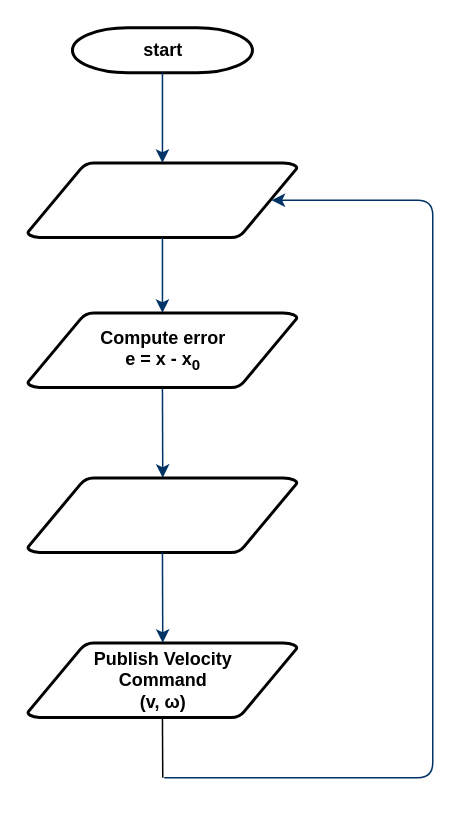
The diagram is 471 pixels wide and 816 high, and some of its shapes have lost their labels. Here are the shapes that lost their labels. From the top down, the centre of each, then its label:
the point at 161,199: Read Line Position (x)
the point at 161,515: Compute Ang. Vel. ω = K P ⋅ e
